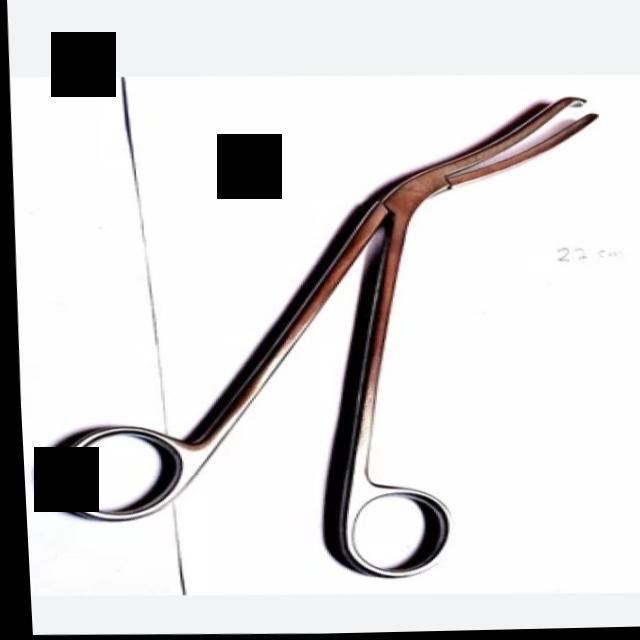Cheatle Forceps: (12, 87, 620, 591)
